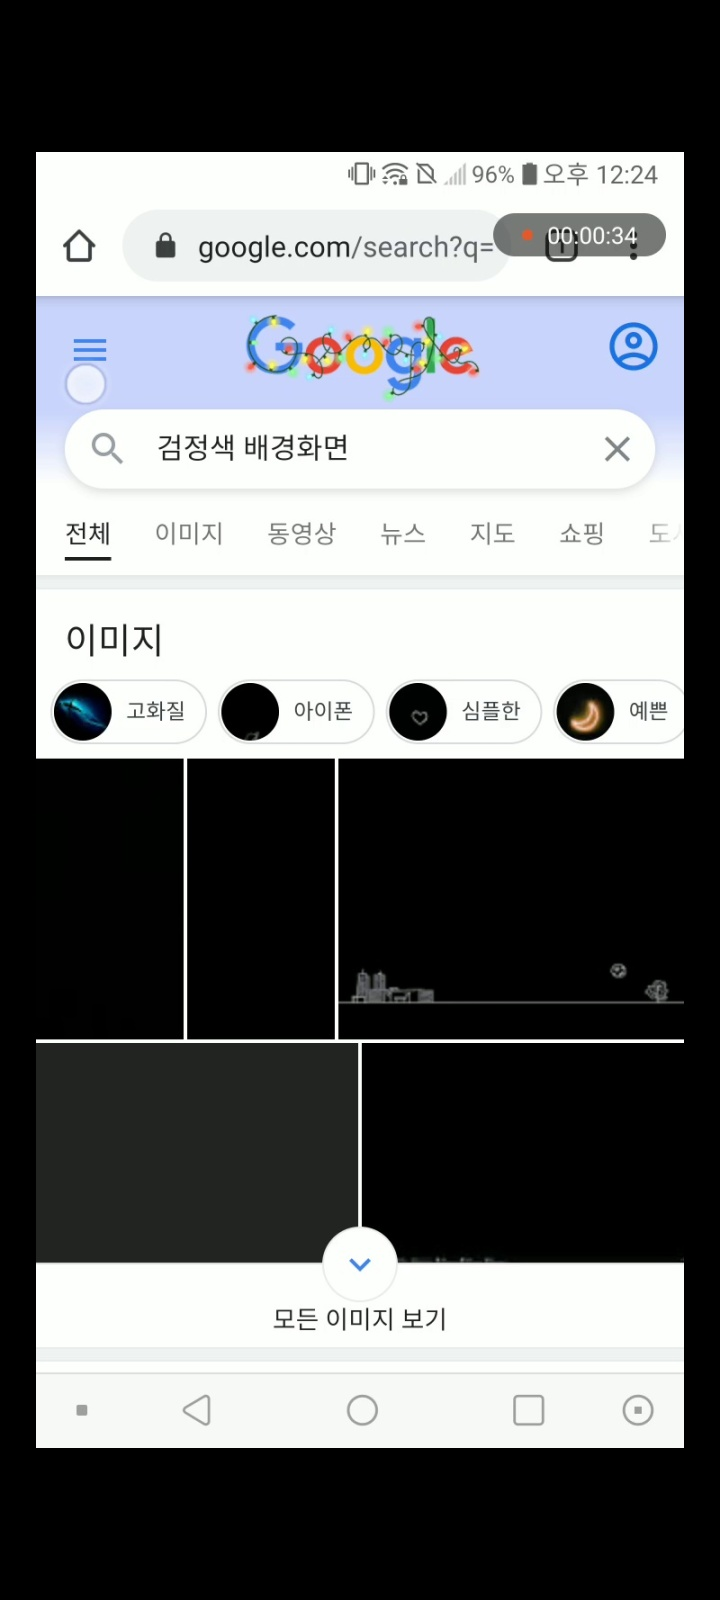Cursor: (64, 360, 109, 405)
